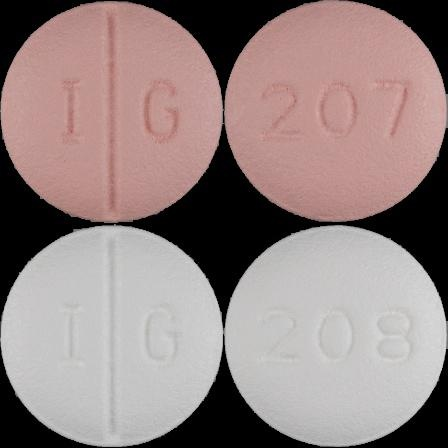31722-207: (0, 0, 224, 224)
